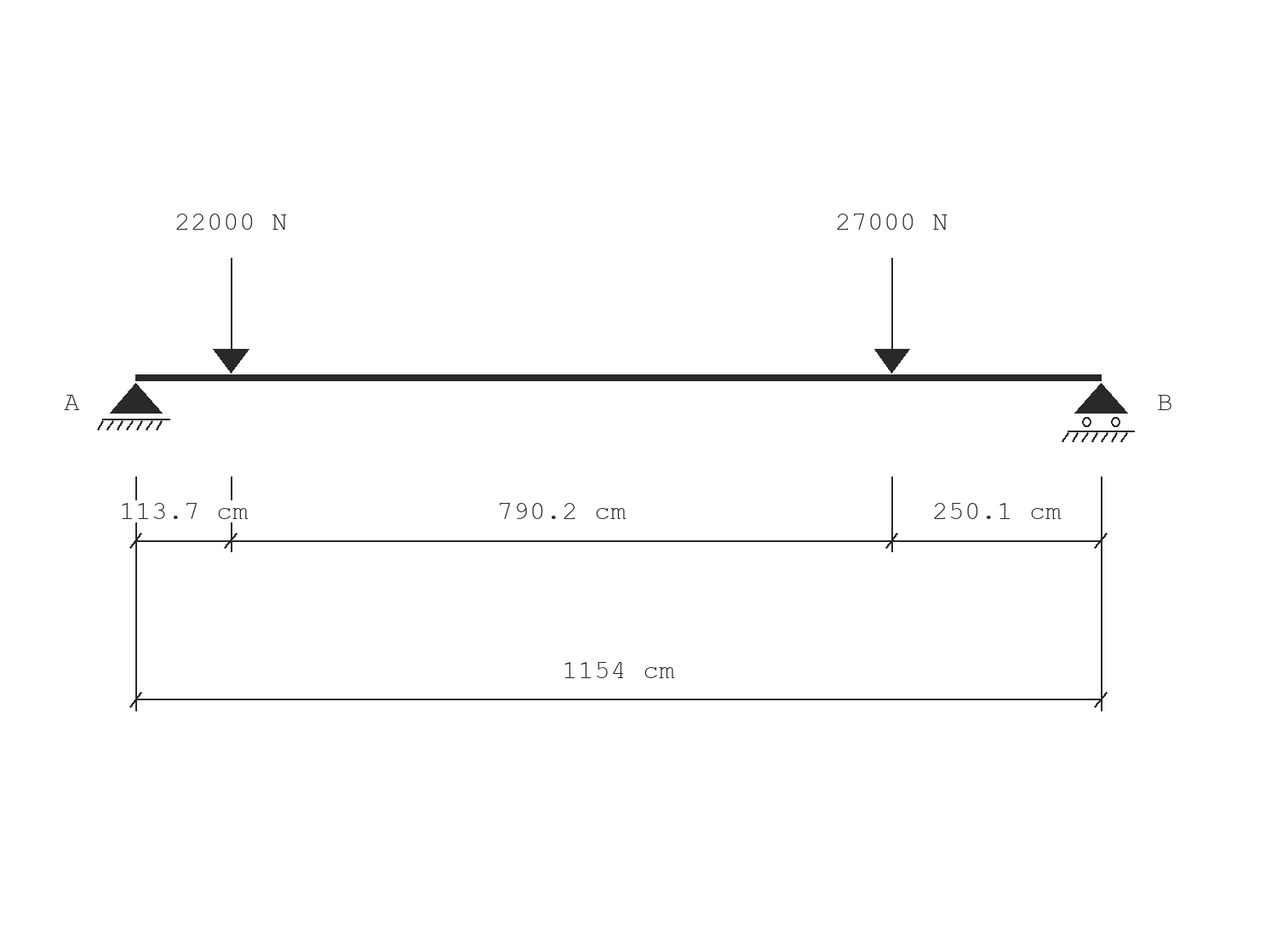pin_support: (97, 383, 170, 431)
point_load: (213, 258, 249, 374), (874, 258, 910, 374)
roller_support: (1062, 383, 1135, 442)
